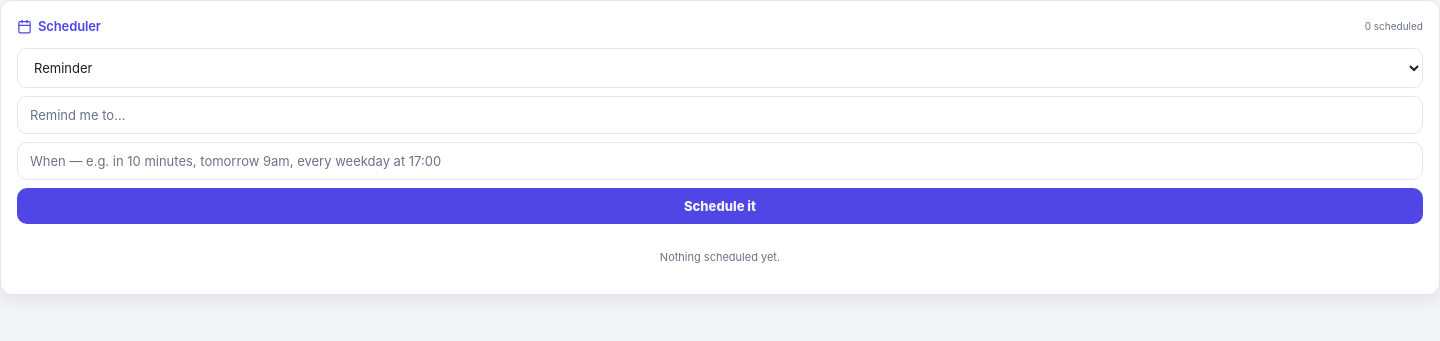
Test case: SchedulerPanel › refuses to submit until both what and when are filled
The image size is (1440, 341).
Click the button "Schedule it" at x=720, y=206, box [17,188,1423,224]
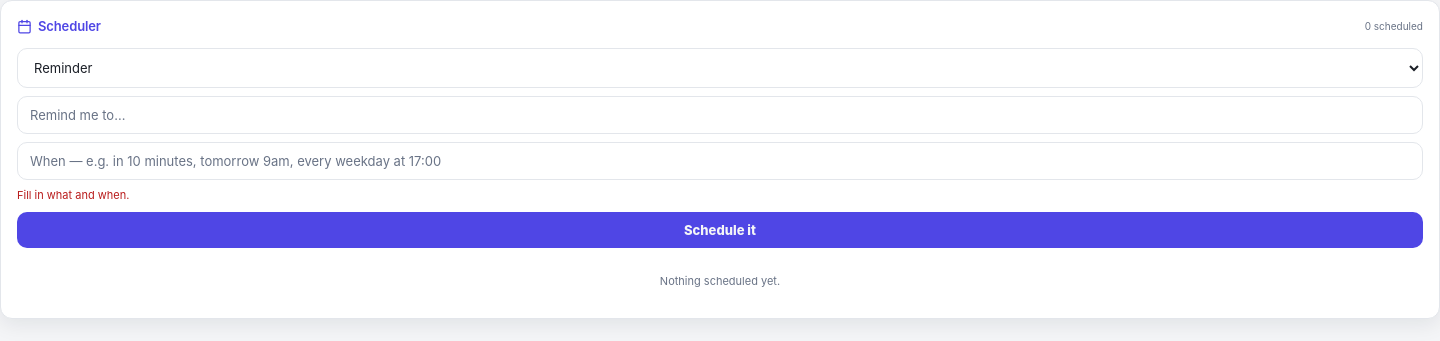
Now the text "Fill in what and when." is shown, box [17,188,129,202]
